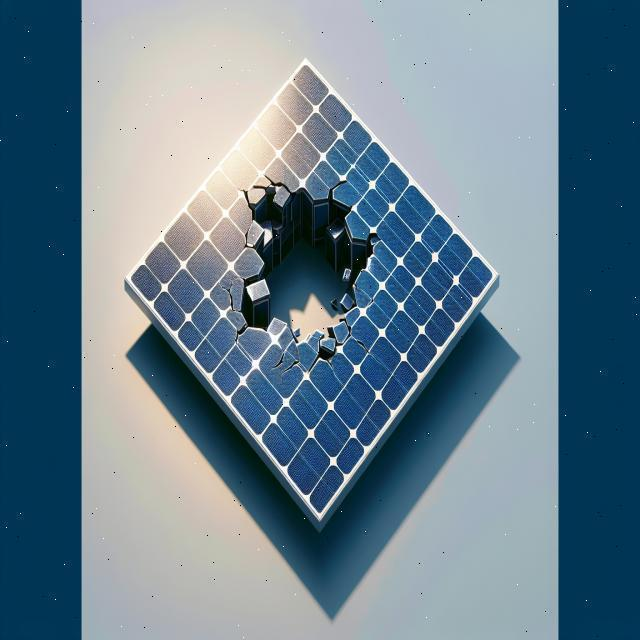Anomaly Solar Panel: (85, 57, 539, 516)
Structural Damage: (212, 172, 388, 363), (230, 172, 267, 210), (273, 343, 306, 378), (217, 275, 240, 315), (322, 174, 347, 201), (354, 335, 377, 364), (261, 173, 292, 193), (227, 320, 248, 345), (237, 224, 255, 251), (303, 353, 321, 376), (271, 349, 285, 370), (364, 296, 374, 306), (326, 361, 332, 371)
